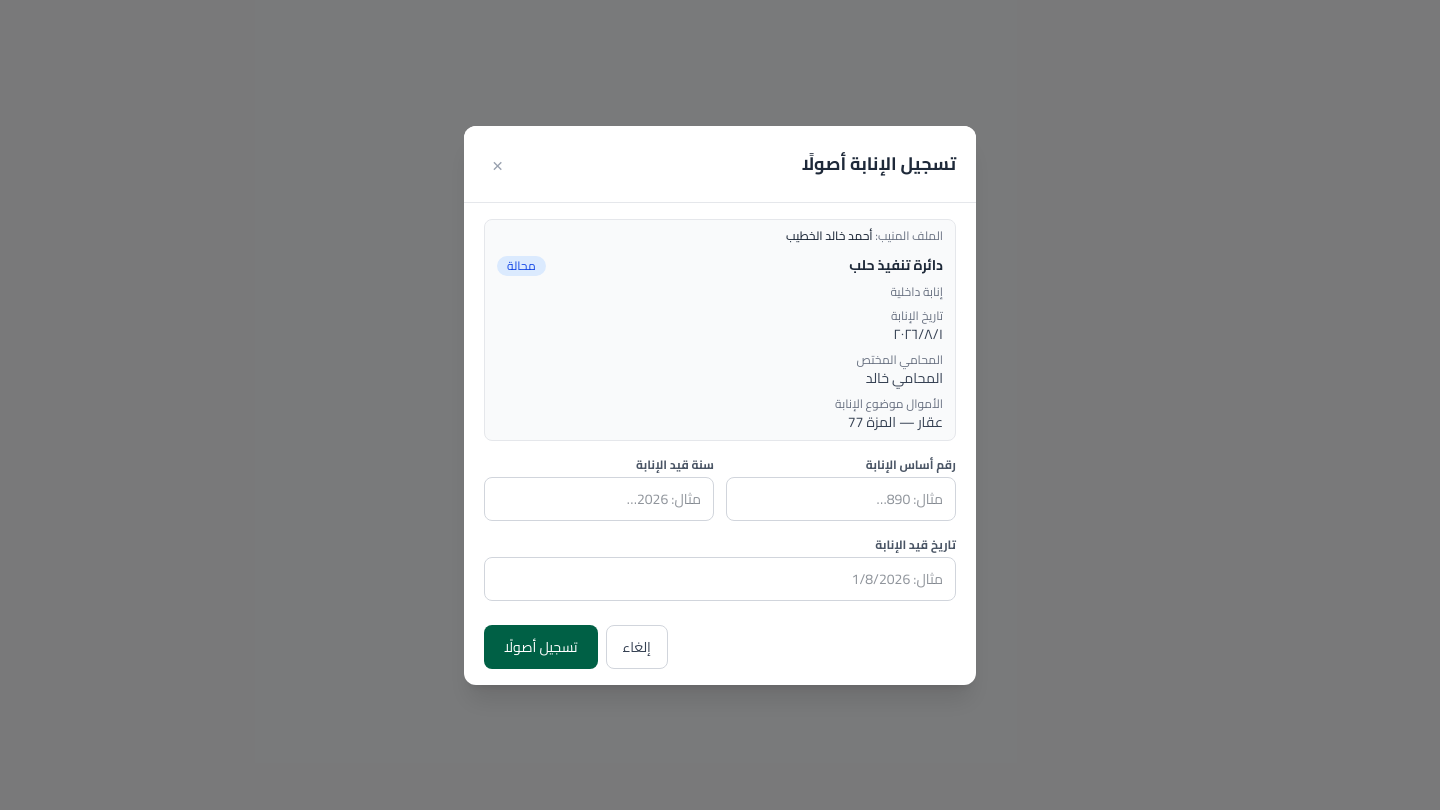
Test: RegisterDelegationModal › يعرض رسالة خطأ الخادم عند فشل التسجيل
Type "890" into the field labelled "رقم أساس الإنابة" at (841, 498), box x1=726 y1=476 x2=956 y2=520
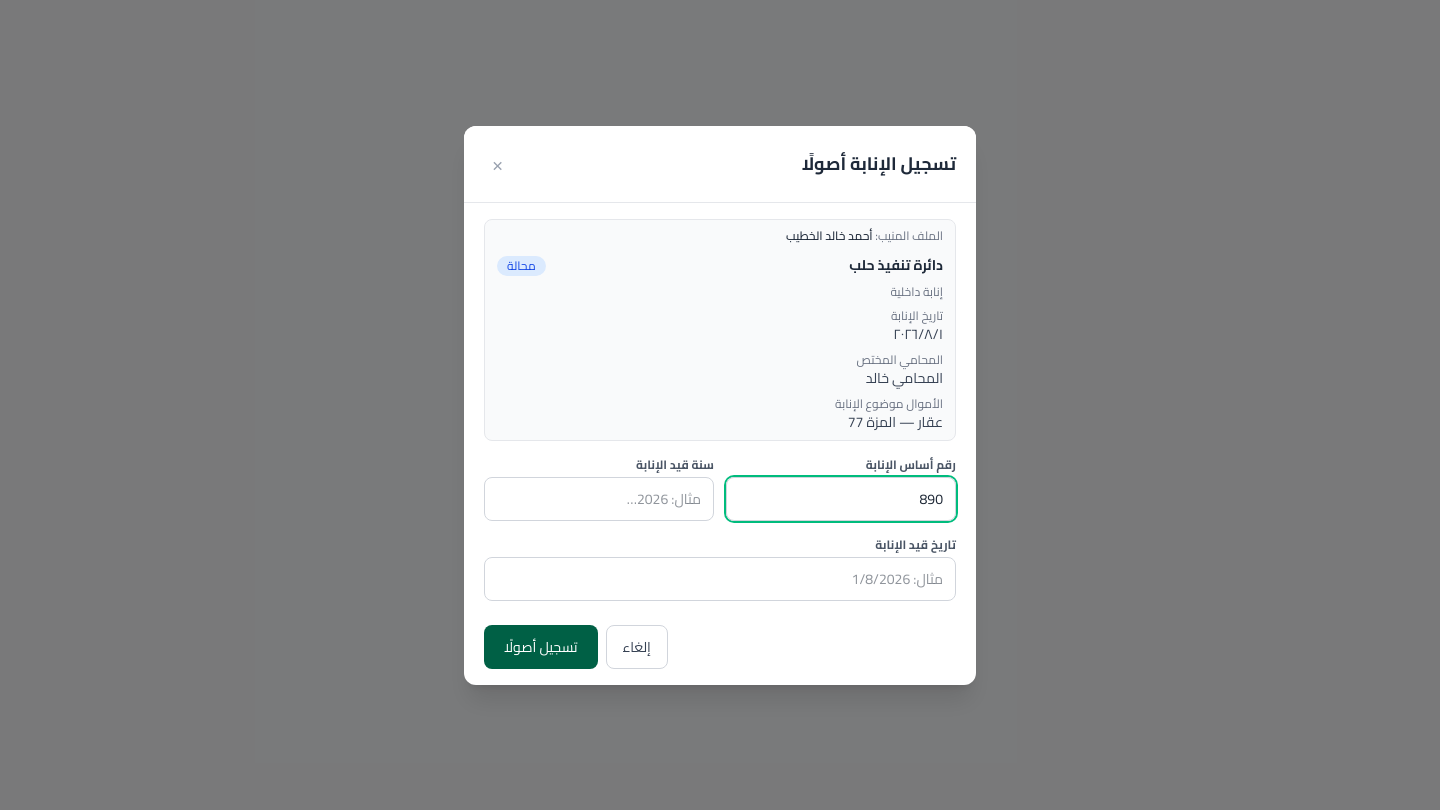
Type "2026" into the field labelled "سنة قيد الإنابة" at (599, 498), box x1=484 y1=476 x2=714 y2=520
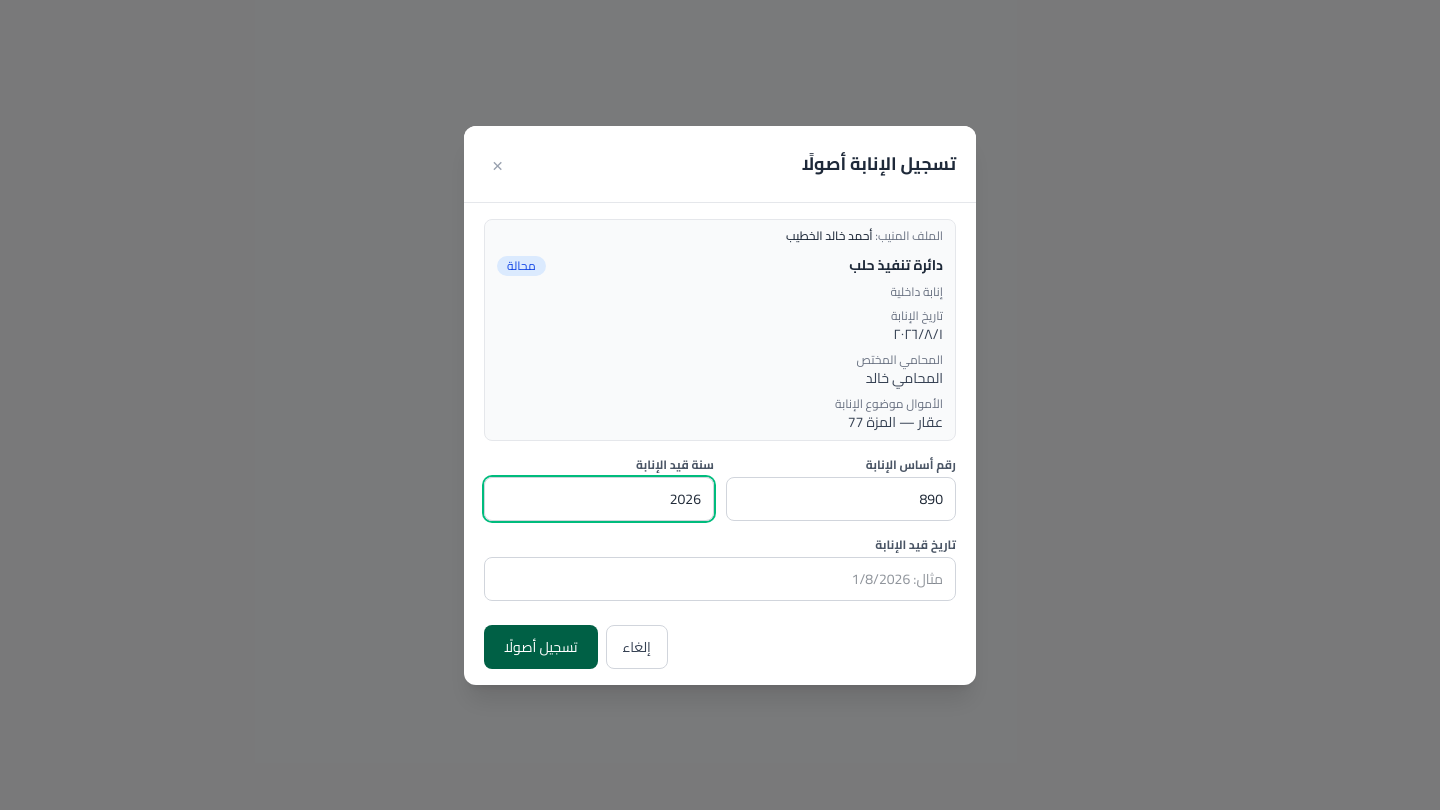
Type "5/8/2026" into the field labelled "تاريخ قيد الإنابة" at (720, 578), box x1=484 y1=556 x2=956 y2=600
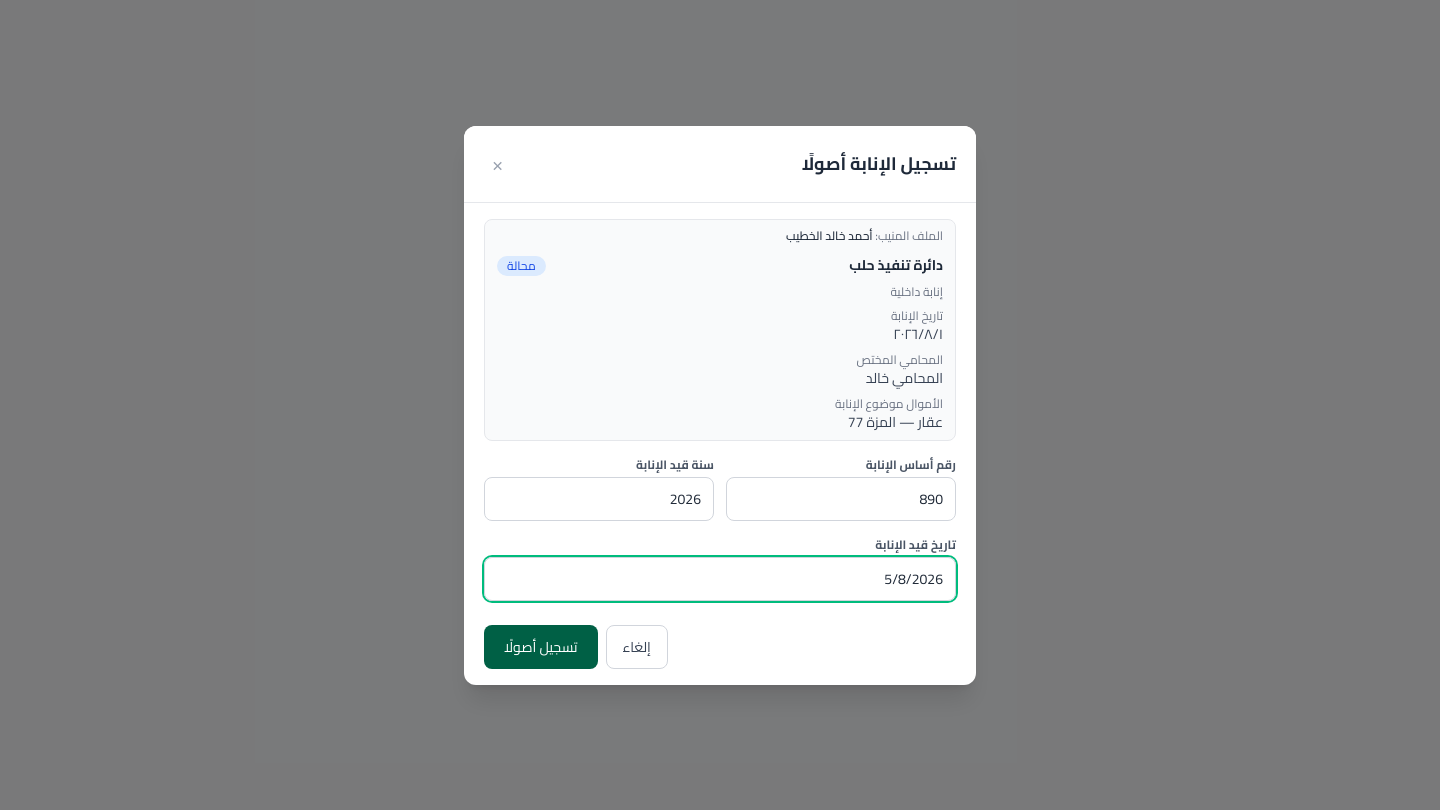
Click the button "تسجيل أصولًا" at (541, 646), box x1=484 y1=624 x2=598 y2=668
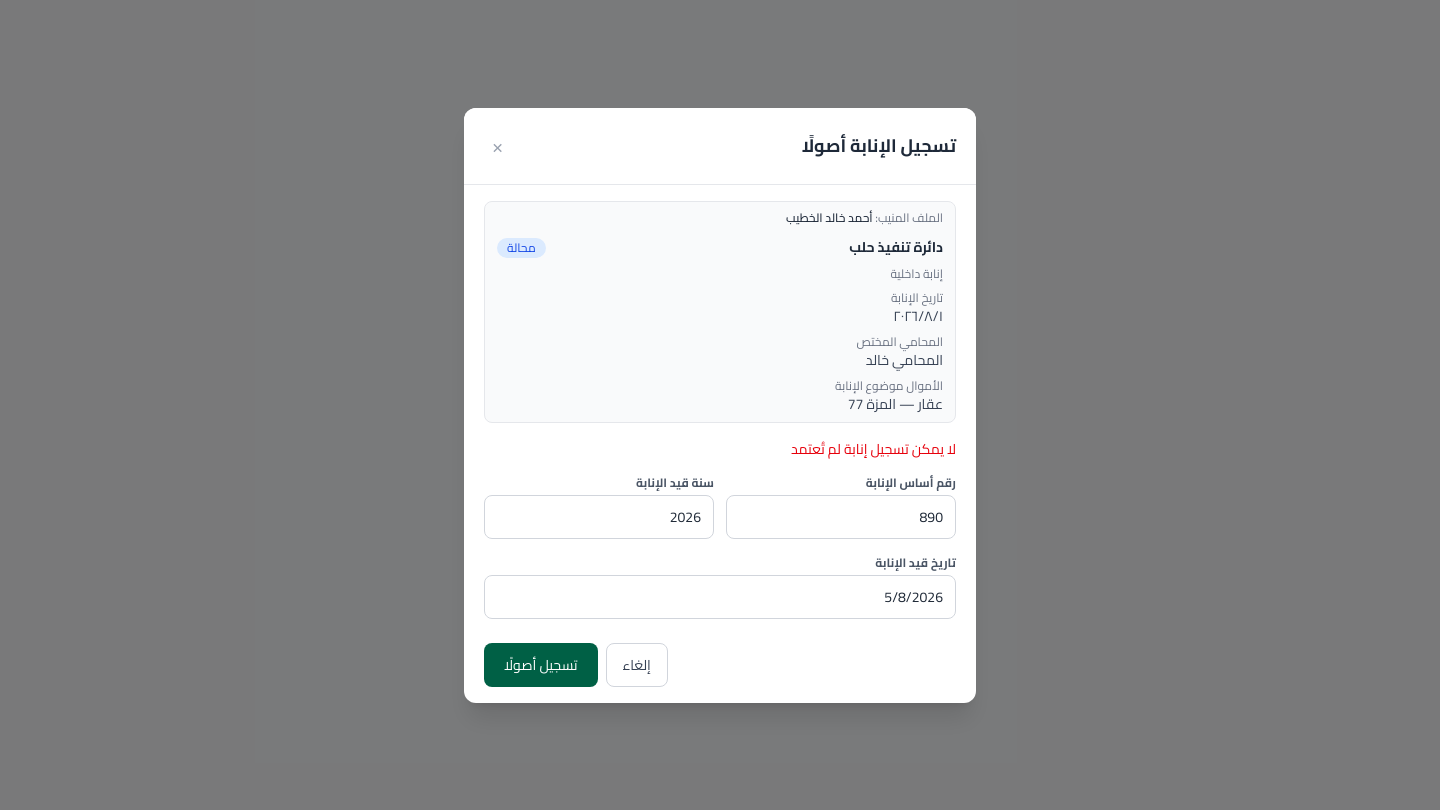
Check: the message reads "لا يمكن تسجيل إنابة لم تُعتمد", box x1=791 y1=436 x2=956 y2=462
